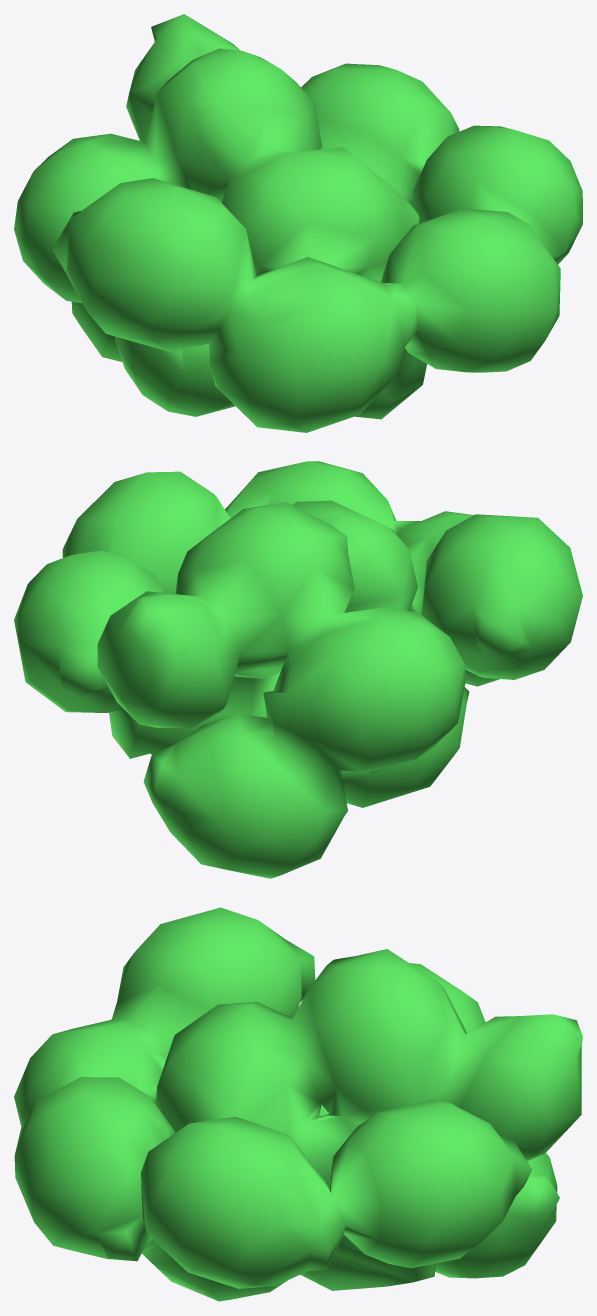
The model's file is SM_town_lemonjoin.fbx.
3 renders of one model, top to bottom at view 1: azimuth 30°, elevation 25°; view 2: azimuth 150°, elevation 25°; view 3: azimuth 270°, elevation 25°, orthographic. The views are drawn at different scales.
Parts seen in each view (by area): view 1: lemon_join_low; view 2: lemon_join_low; view 3: lemon_join_low.
Boxes of the visible parts, x1,y1,x2,y2 form: lemon_join_low: (14, 14, 582, 432); lemon_join_low: (14, 461, 582, 878); lemon_join_low: (14, 907, 582, 1301).
Bounding box in the file's own units: 40.52 × 25.66 × 40.15.
